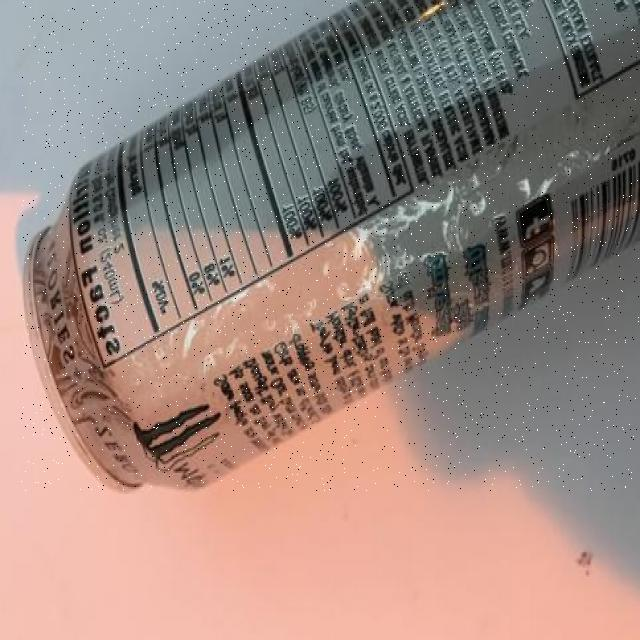metal: (21, 0, 640, 490)
